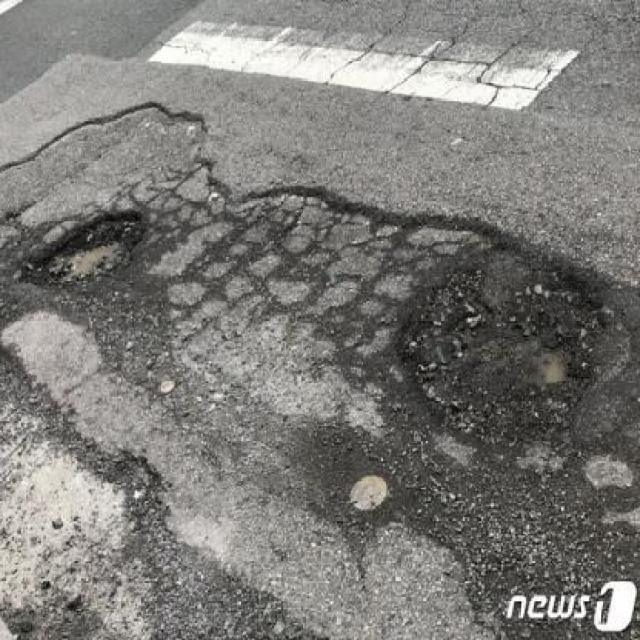Pothole: (398, 231, 612, 446), (24, 204, 144, 290)
